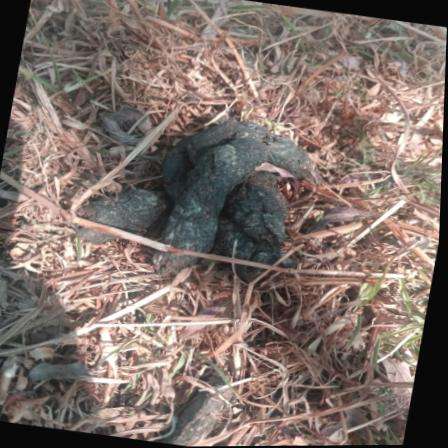dog-poop: (79, 79, 338, 300)
